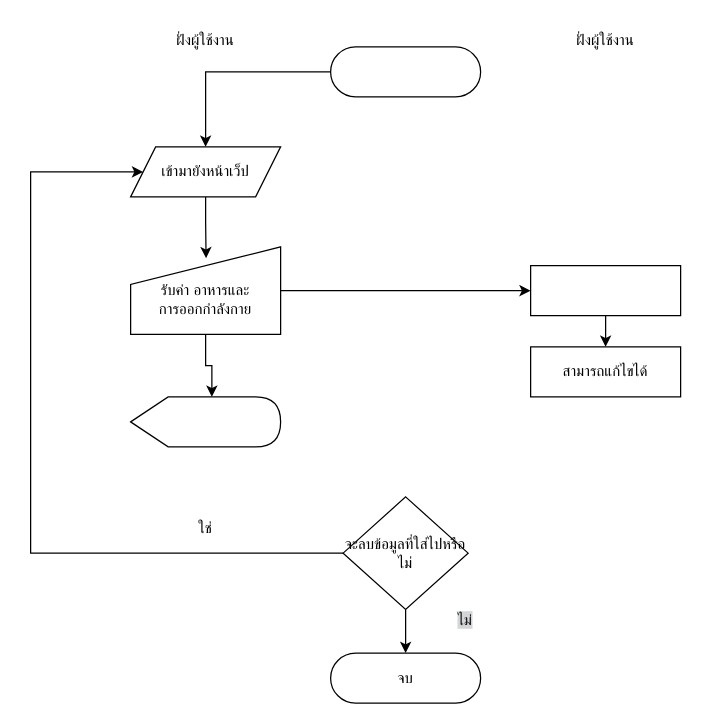
The diagram is 703 pixels wide and 725 high, and some of its shapes have lost their labels. Each missing label, with the box of its shape:
จุดเริ่มต้น: (329, 46, 481, 97)
เก็บค่าจากผู้ใช้: (529, 264, 681, 316)
แสดงค่า แคลลอรี่: (129, 396, 281, 447)
